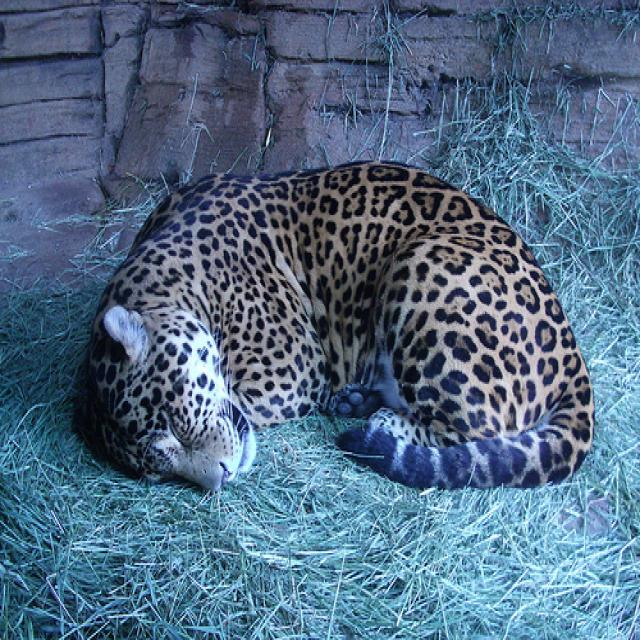Leopard: (80, 152, 596, 491)
